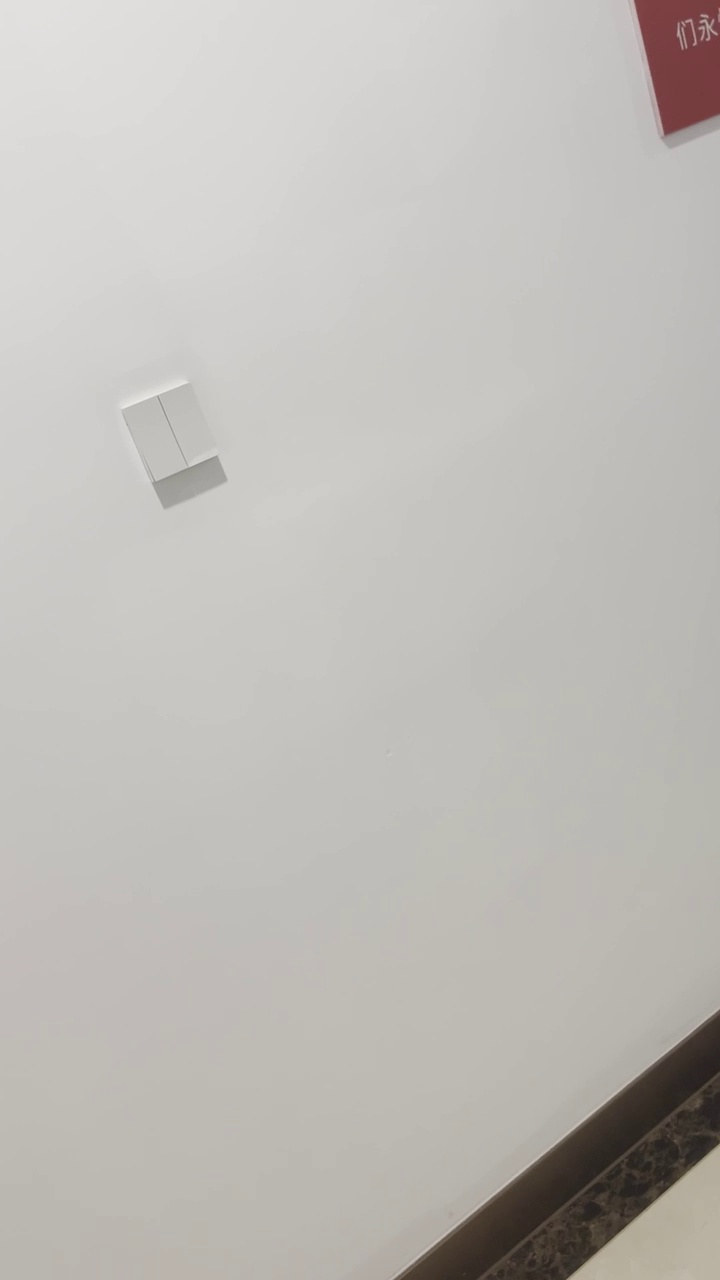button: (118, 377, 222, 486)
